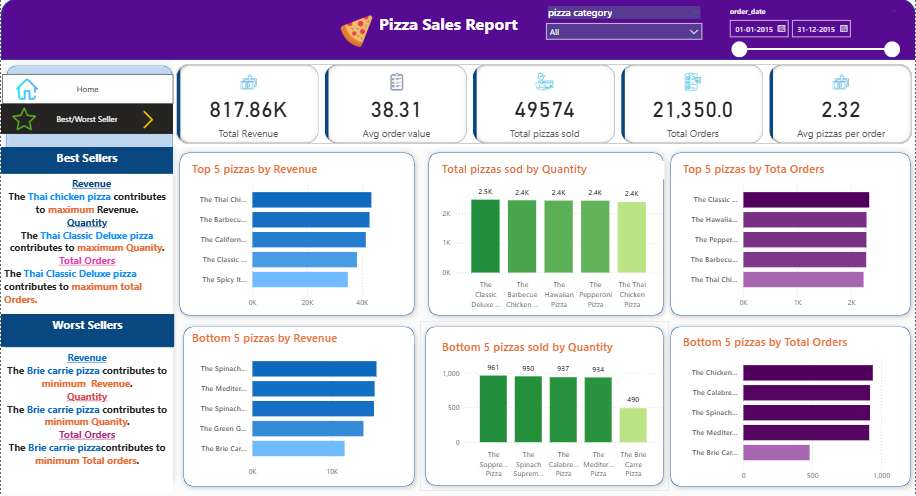

Layout of this report page (visuals, bound fields, positions):
{"tool":"powerbi","page":{"name":"Best/Worst Seller","canvas":[1500,820],"ordinal":1},"visuals":[{"type":"shape","box":[0,100,290.3,706.8],"z":0},{"type":"cardVisual","fields":{"Data":["pizza_sales.Total Revenue","pizza_sales.Avg order value","pizza_sales.Total pizzas sold","pizza_sales.Total Orders","pizza_sales.Avg pizzas per order"]},"box":[282.1,101.7,1218.5,141],"z":1000},{"type":"shape","box":[0,0,1500,100.4],"z":2000},{"type":"textbox","box":[615,16.4,254.2,65.6],"z":3000},{"type":"image","box":[551,19.7,64,65.6],"z":4000},{"type":"shape","box":[283.7,242.7,403.4,285.4],"z":5000},{"type":"shape","box":[1089,242.7,411.6,285.4],"z":6000},{"type":"shape","box":[290.3,528.1,396.9,280.4],"z":7000},{"type":"shape","box":[687.2,528.1,408.4,278.8],"z":8000},{"type":"shape","box":[1089,528.1,411.6,280.4],"z":9000},{"type":"textbox","box":[0,242.7,282.1,44.3],"z":10000},{"type":"textbox","box":[0,287,282.1,229.6],"z":11000},{"type":"textbox","box":[0,516.6,283.7,54.1],"z":12000},{"type":"textbox","box":[0,572.4,282.1,234.5],"z":13000},{"type":"slicer","fields":{"Values":["pizza_sales.pizza_category"]},"box":[884,6.6,275.5,85.3],"z":14000},{"type":"slicer","fields":{"Values":["pizza_sales.order_date"]},"box":[1182.4,6.6,300.1,93.5],"z":15000},{"type":"shape","box":[692.1,242.7,403.4,285.4],"z":16000},{"type":"barChart","title":"Top 5 pizzas by Revenue","fields":{"Category":["pizza_sales.pizza_name"],"Y":["pizza_sales.Total Revenue"]},"box":[309.1,265.7,362.2,250],"z":17000},{"type":"barChart","title":"Bottom 5 pizzas by Revenue","fields":{"Category":["pizza_sales.pizza_name"],"Y":["pizza_sales.Total Revenue"]},"box":[309.1,543.3,362.2,250],"z":18000},{"type":"columnChart","title":"Total pizzas sod by Quantity","fields":{"Category":["pizza_sales.pizza_name"],"Y":["pizza_sales.Total pizzas sold"]},"box":[718.5,265.7,370.1,250],"z":19000},{"type":"columnChart","title":"Bottom 5 pizzas sold by Quantity","fields":{"Category":["pizza_sales.pizza_name"],"Y":["pizza_sales.Total pizzas sold"]},"box":[718.5,557.1,370.1,236.2],"z":20000},{"type":"barChart","title":"Top 5 pizzas by Tota Orders","fields":{"Category":["pizza_sales.pizza_name"],"Y":["pizza_sales.Total Orders"]},"box":[1114.2,265.7,362.2,250],"z":21000},{"type":"barChart","title":"Bottom 5 pizzas by Total Orders","fields":{"Category":["pizza_sales.pizza_name"],"Y":["pizza_sales.Total Orders"]},"box":[1114.2,549.2,362.2,250],"z":22000},{"type":"pageNavigator","box":[1.5,122.3,281.8,49.2],"z":23000},{"type":"pageNavigator","box":[0,172.2,282.1,49.2],"z":24000},{"type":"image","box":[220.7,174.4,40.3,47.7],"z":25000},{"type":"image","box":[19.7,123,45.9,49.2],"z":26000},{"type":"image","box":[11.9,172.9,53.7,49.2],"z":27000}]}

Visuals, with their boxes in screenshot pixels (x1, y1, x2, y2), scaled from the page's 1500x820 canvas onto the 916x496 screenshot:
shape: [0, 60, 177, 488]
cardVisual - pizza_sales.Total Revenue x pizza_sales.Avg order value: [172, 62, 915, 147]
shape: [0, 0, 915, 61]
textbox: [376, 10, 531, 50]
image: [336, 12, 376, 52]
shape: [173, 147, 420, 319]
shape: [665, 147, 915, 319]
shape: [177, 319, 420, 489]
shape: [420, 319, 669, 488]
shape: [665, 319, 915, 489]
textbox: [0, 147, 172, 174]
textbox: [0, 174, 172, 312]
textbox: [0, 312, 173, 345]
textbox: [0, 346, 172, 488]
slicer - pizza_sales.pizza_category: [540, 4, 708, 56]
slicer - pizza_sales.order_date: [722, 4, 905, 61]
shape: [423, 147, 669, 319]
"Top 5 pizzas by Revenue" barChart: [189, 161, 410, 312]
"Bottom 5 pizzas by Revenue" barChart: [189, 329, 410, 480]
"Total pizzas sod by Quantity" columnChart: [439, 161, 665, 312]
"Bottom 5 pizzas sold by Quantity" columnChart: [439, 337, 665, 480]
"Top 5 pizzas by Tota Orders" barChart: [680, 161, 902, 312]
"Bottom 5 pizzas by Total Orders" barChart: [680, 332, 902, 483]
pageNavigator: [1, 74, 173, 104]
pageNavigator: [0, 104, 172, 134]
image: [135, 105, 159, 134]
image: [12, 74, 40, 104]
image: [7, 105, 40, 134]
